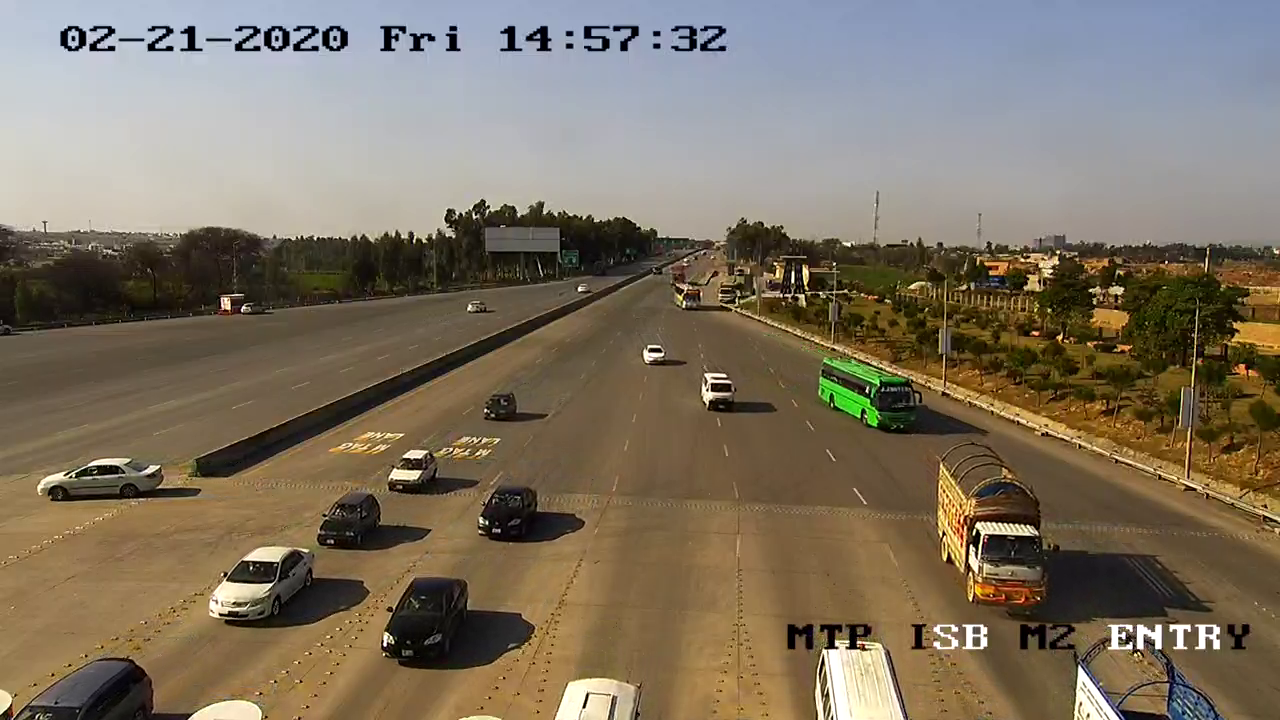f1: (195, 538, 323, 634), (372, 568, 477, 677), (472, 475, 545, 548), (309, 486, 386, 554), (377, 440, 449, 498)
f2: (691, 368, 745, 420)
f4: (797, 340, 932, 440)
f5: (917, 426, 1080, 617)
